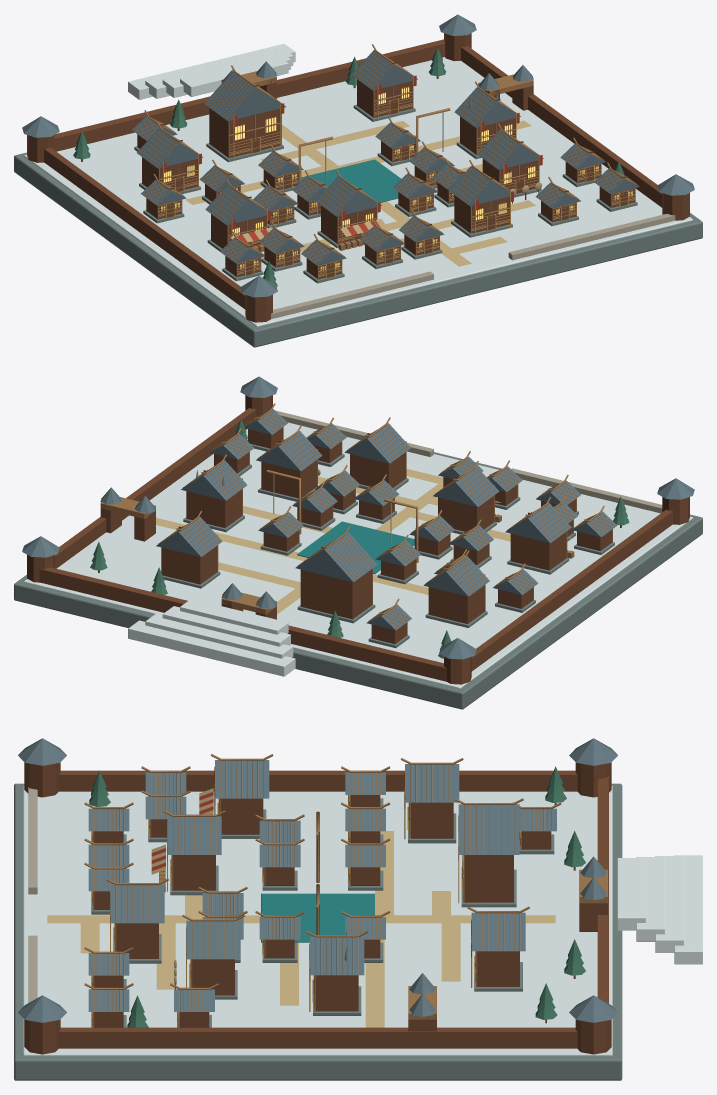
The model's file is icechisel.glb.
3 renders of one model, top to bottom at view 1: azimuth 30°, elevation 25°; view 2: azimuth 150°, elevation 25°; view 3: azimuth 270°, elevation 25°, orthographic. The views are drawn at different scales.
Visible parts, largest first — view 1: Terrain foundation geometry, Defensive perimeter geometry, Town identity landmarks geometry, adventurerGuild geometry, Streets and courtyards geometry, home geometry, bookstore geometry, itemShop geometry, tavern geometry, inn geometry, trainingGround geometry, equipmentShop geometry (+21 smaller); view 2: Terrain foundation geometry, Defensive perimeter geometry, Town identity landmarks geometry, adventurerGuild geometry, Streets and courtyards geometry, tavern geometry, inn geometry, bookstore geometry, equipmentShop geometry, trainingGround geometry, itemShop geometry, home geometry (+19 smaller); view 3: Terrain foundation geometry, Defensive perimeter geometry, Town identity landmarks geometry, Streets and courtyards geometry, adventurerGuild geometry, itemShop geometry, tavern geometry, inn geometry, equipmentShop geometry, bookstore geometry, home geometry, trainingGround geometry (+20 smaller).
Boxes of the visible parts, box(x1,y1,x2,y2) form: Terrain foundation geometry: box(14, 57, 702, 347); Defensive perimeter geometry: box(22, 14, 694, 322); Town identity landmarks geometry: box(128, 43, 450, 202); adventurerGuild geometry: box(204, 65, 285, 162); Streets and courtyards geometry: box(185, 120, 535, 266); home geometry: box(448, 160, 515, 237); bookstore geometry: box(351, 44, 417, 121); itemShop geometry: box(315, 170, 386, 250); tavern geometry: box(205, 179, 272, 251); inn geometry: box(137, 122, 203, 194); trainingGround geometry: box(477, 123, 543, 203); equipmentShop geometry: box(454, 81, 520, 159); Terrain foundation geometry: box(14, 422, 702, 709); Defensive perimeter geometry: box(22, 376, 694, 684); Town identity landmarks geometry: box(128, 470, 418, 676); adventurerGuild geometry: box(295, 526, 377, 623); Streets and courtyards geometry: box(156, 469, 510, 614); tavern geometry: box(505, 497, 574, 574); inn geometry: box(423, 550, 489, 627); bookstore geometry: box(156, 510, 222, 588); equipmentShop geometry: box(181, 454, 247, 532); trainingGround geometry: box(256, 425, 322, 501); itemShop geometry: box(433, 461, 501, 534); home geometry: box(344, 417, 410, 490); Terrain foundation geometry: box(14, 783, 622, 1080); Defensive perimeter geometry: box(18, 738, 617, 1054); Town identity landmarks geometry: box(261, 811, 702, 964); Streets and courtyards geometry: box(47, 831, 555, 1027); adventurerGuild geometry: box(454, 798, 523, 907); itemShop geometry: box(151, 810, 225, 895); tavern geometry: box(199, 754, 273, 838); inn geometry: box(400, 758, 463, 843); equipmentShop geometry: box(305, 930, 368, 1015); bookstore geometry: box(467, 906, 529, 991); home geometry: box(106, 878, 168, 963); trainingGround geometry: box(174, 914, 244, 999).
Size of the model in its own units: 69.2 by 13.51 by 72.5.
